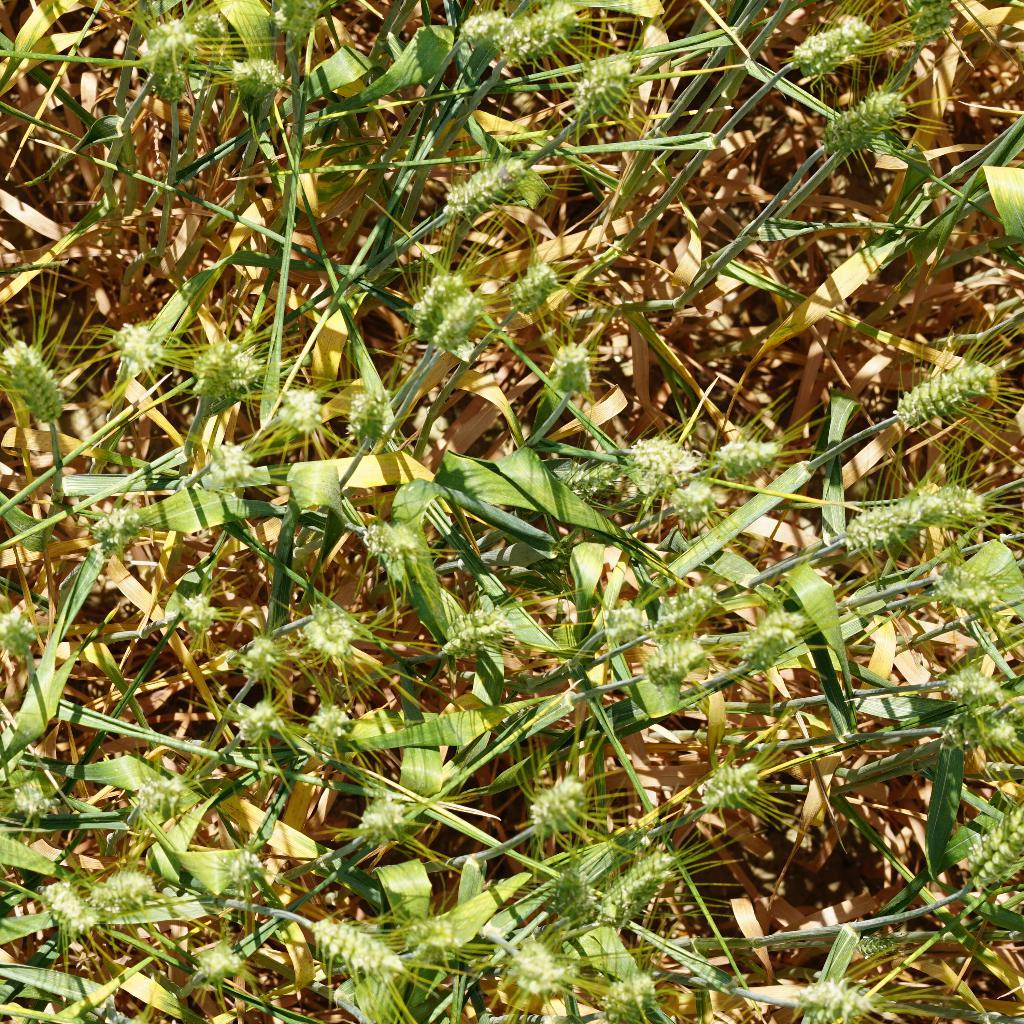0-0: (885, 348, 1006, 433), (299, 904, 406, 983), (428, 146, 531, 227), (832, 481, 940, 548), (806, 81, 905, 154), (257, 378, 347, 458), (567, 49, 645, 141), (593, 843, 680, 925), (0, 329, 74, 422), (497, 0, 604, 63), (954, 802, 1024, 895), (777, 10, 870, 79), (439, 590, 526, 663), (189, 325, 254, 413), (329, 374, 396, 459), (686, 751, 772, 815), (737, 608, 817, 675), (504, 934, 576, 1008), (496, 242, 567, 317), (930, 560, 1021, 615), (103, 307, 175, 376), (400, 254, 453, 347), (643, 619, 717, 683), (544, 332, 610, 403), (358, 507, 422, 579), (617, 426, 703, 478), (710, 425, 789, 481), (129, 8, 195, 75), (89, 852, 154, 920), (545, 455, 633, 504), (650, 572, 728, 627), (440, 283, 497, 358), (915, 475, 998, 526), (356, 792, 421, 857), (403, 903, 462, 974), (40, 866, 100, 935), (529, 770, 594, 833), (789, 965, 866, 1017), (298, 593, 362, 654), (936, 714, 1024, 758), (541, 854, 597, 923), (137, 759, 197, 823), (187, 927, 247, 991), (507, 531, 593, 575), (79, 500, 154, 550), (224, 627, 294, 680), (904, 0, 969, 56), (656, 470, 717, 529), (942, 661, 1012, 712), (306, 695, 367, 751), (600, 964, 661, 1019), (0, 600, 45, 669), (451, 0, 507, 55), (265, 0, 325, 51), (223, 697, 284, 746), (222, 845, 273, 901), (595, 595, 647, 647), (230, 58, 288, 102), (169, 583, 220, 627), (204, 445, 256, 486), (151, 58, 191, 108), (852, 928, 915, 959), (7, 780, 55, 819), (186, 8, 228, 49)
